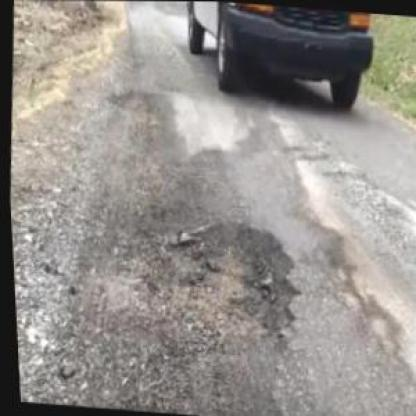pothole: (147, 213, 308, 354)
